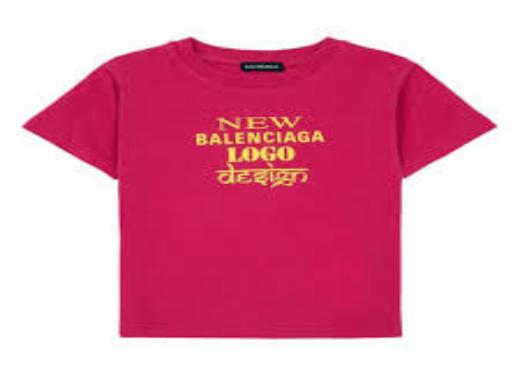BALENCIAGA: (191, 132, 330, 145)
